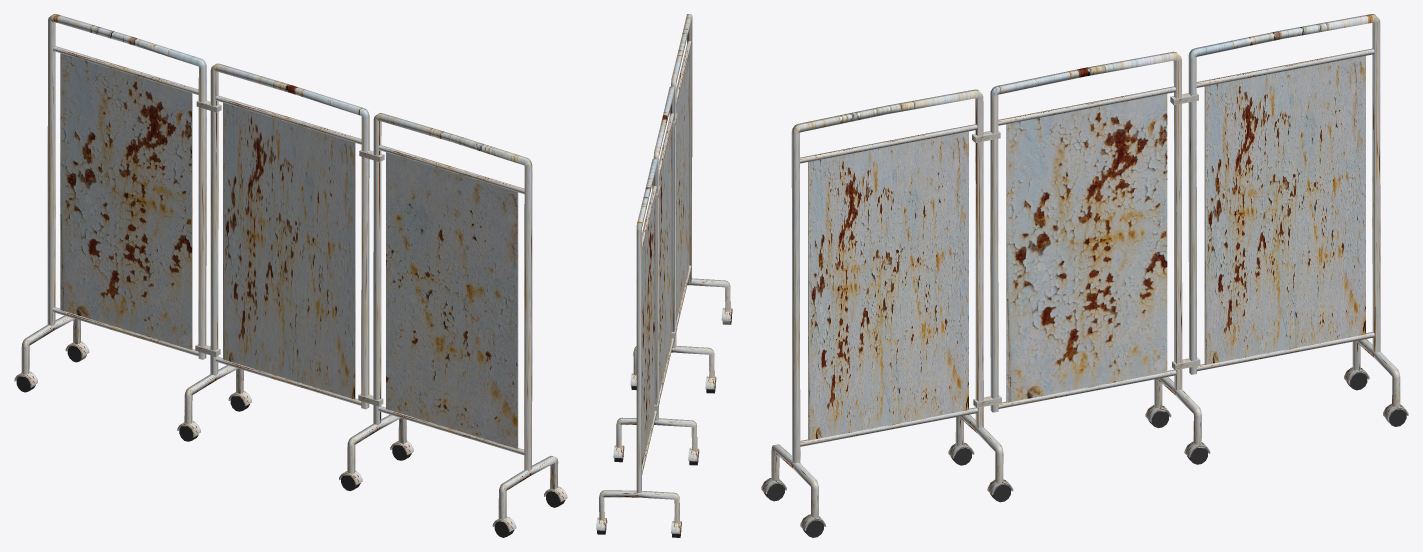
File: SHIRMANOBLOOD.fbx
3 views of the same model, side by side, from view 1: azimuth 30°, elevation 25°; view 2: azimuth 150°, elevation 25°; view 3: azimuth 270°, elevation 25° (orthographic). The views are drawn at different scales.
Parts seen in each view (by area): view 1: SHIRMA(NOBLLOD); view 2: SHIRMA(NOBLLOD); view 3: SHIRMA(NOBLLOD).
Part boxes in pixels (bbox=[...]): SHIRMA(NOBLLOD): bbox=[14, 14, 567, 537]; SHIRMA(NOBLLOD): bbox=[596, 14, 732, 537]; SHIRMA(NOBLLOD): bbox=[761, 14, 1408, 537].
Size of the model in its own units: 580 by 680 by 1016.
Materials: 2 (1 with a texture image).
